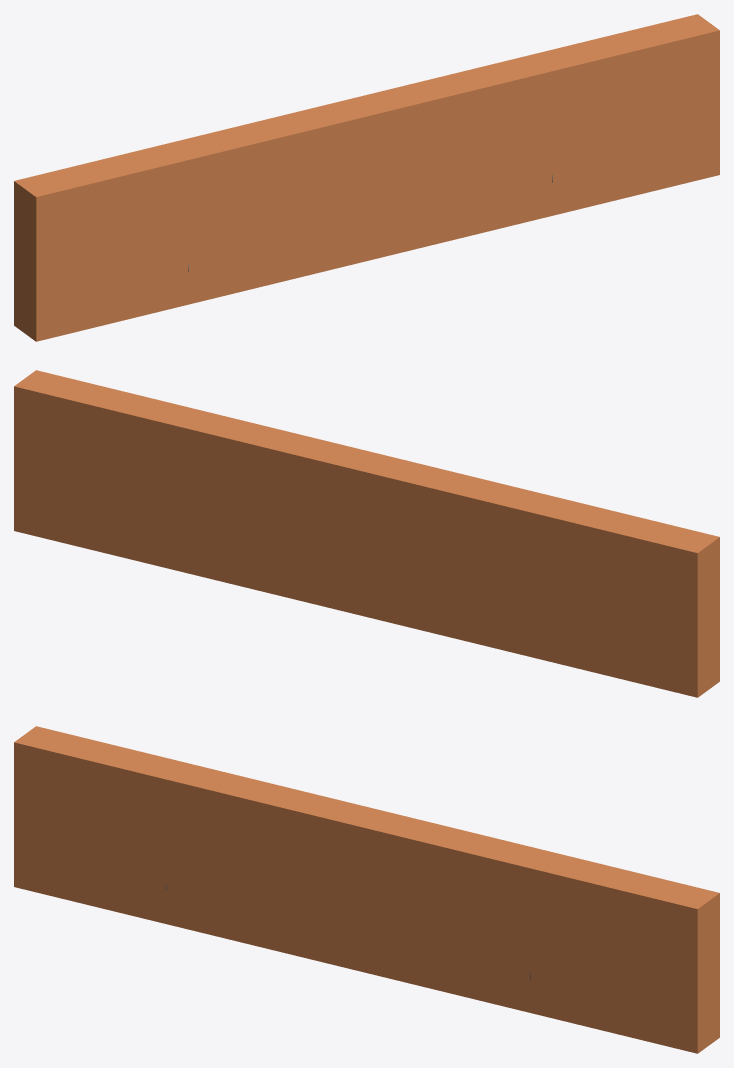
Rendered from SciFi_sprinkler_03.DAE.
3 renders of one model, top to bottom at view 1: azimuth 30°, elevation 25°; view 2: azimuth 150°, elevation 25°; view 3: azimuth 330°, elevation 25°, orthographic.
Visible parts, largest first — view 1: bounds; view 2: bounds; view 3: bounds.
Boxes of the visible parts, x1=… form: bounds: x1=14, y1=14, x2=719, y2=341; bounds: x1=14, y1=370, x2=719, y2=697; bounds: x1=14, y1=726, x2=719, y2=1053.
Bounding box in the file's own units: 676 × 38.26 × 137.
